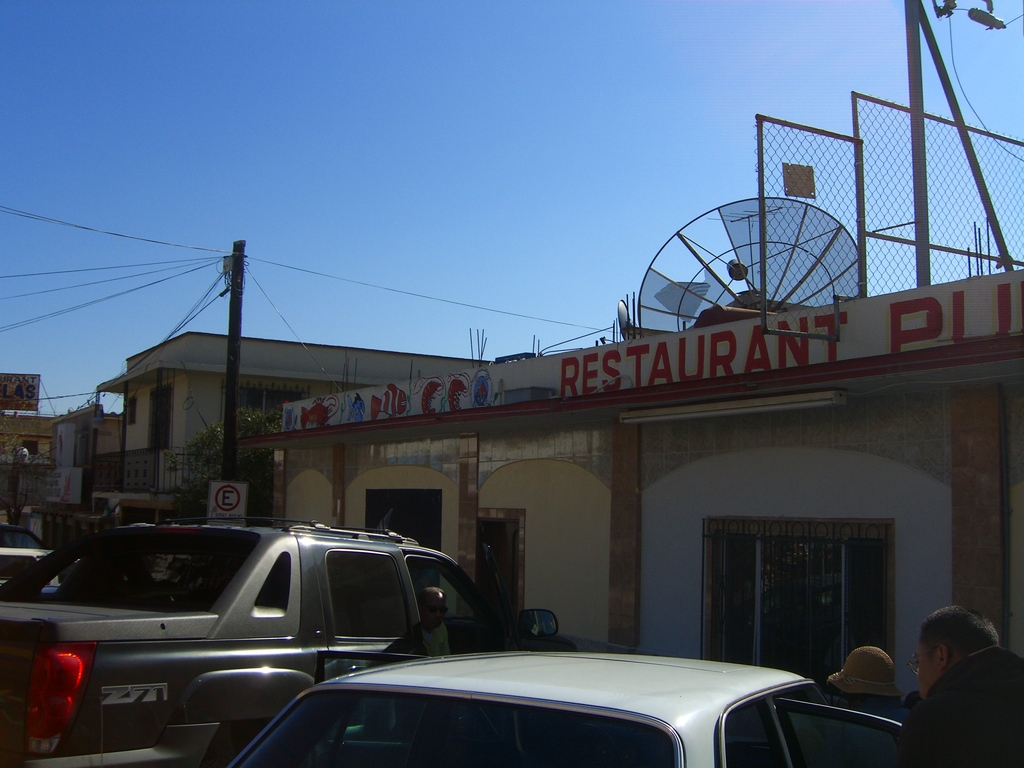Car: (220, 645, 906, 767), (0, 529, 58, 588)
